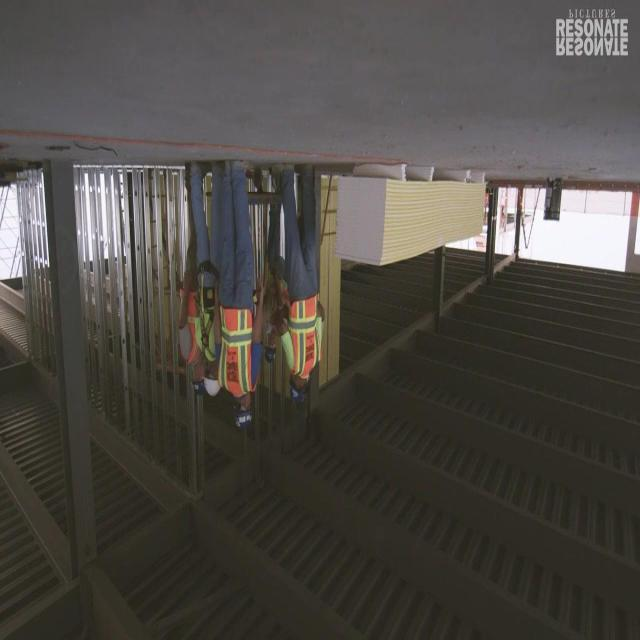helmet: (230, 401, 256, 440), (287, 378, 314, 413), (203, 370, 224, 400), (191, 375, 203, 403)
jacket: (216, 306, 260, 398), (287, 288, 325, 372), (193, 296, 221, 356)
